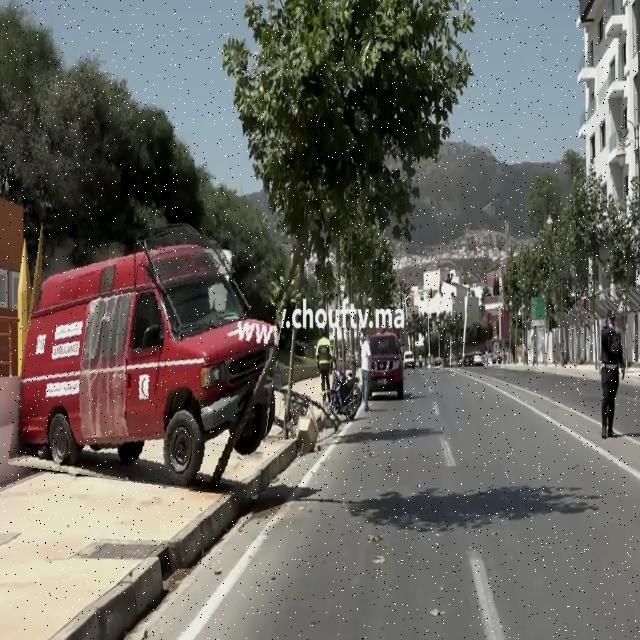ambulance: (16, 221, 284, 491)
